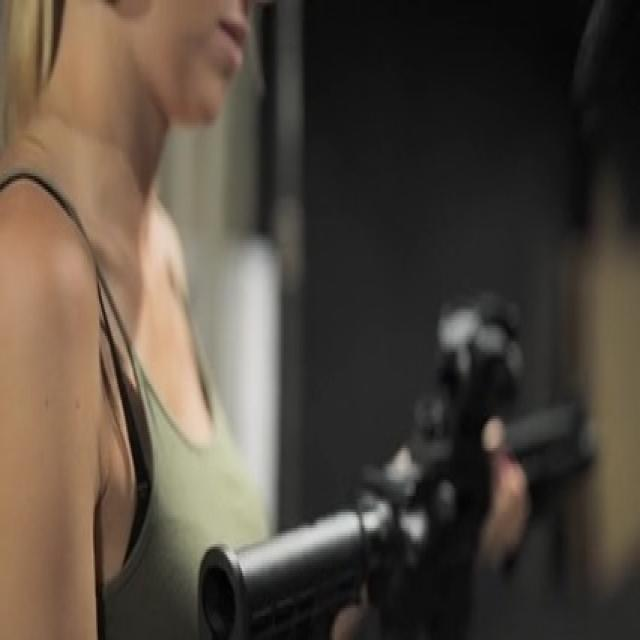Gun_Holder: (183, 253, 640, 640)
Person: (0, 0, 369, 629)
